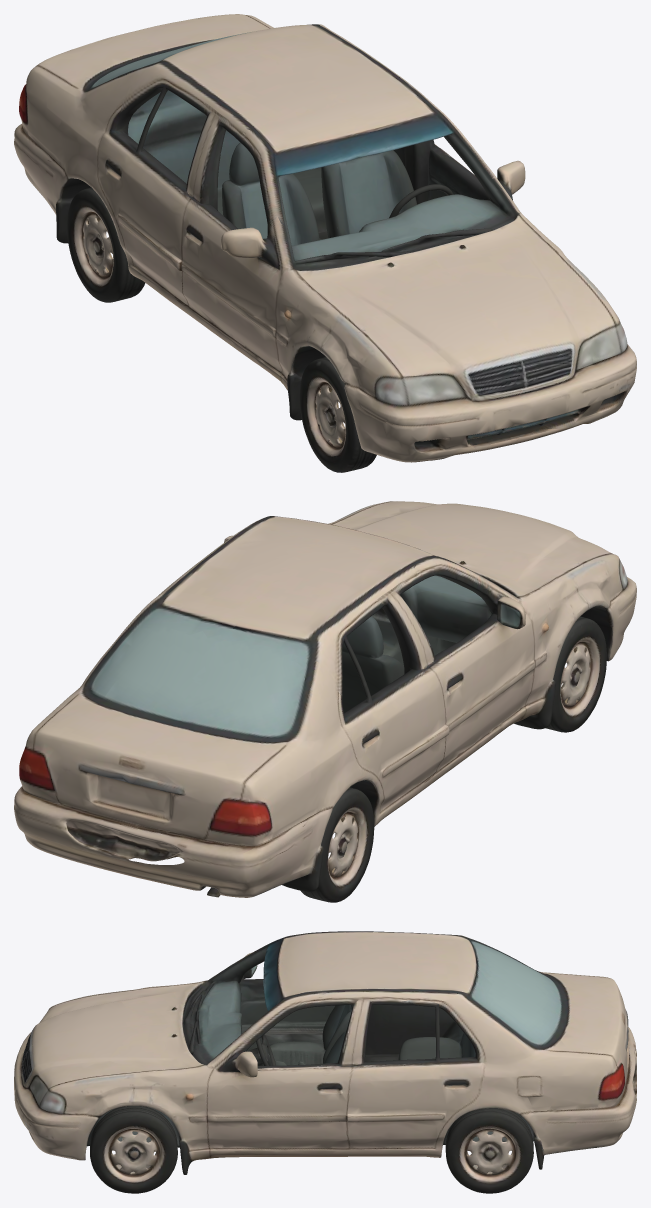
The model's file is 010_beige_dented.glb.
3 views of the same model, one above another, from view 1: azimuth 30°, elevation 25°; view 2: azimuth 150°, elevation 25°; view 3: azimuth 270°, elevation 25° (orthographic). The views are drawn at different scales.
Parts seen in each view (by area): view 1: geometry_0; view 2: geometry_0; view 3: geometry_0.
Part boxes in pixels (x1=…): geometry_0: x1=14, y1=14, x2=636, y2=472; geometry_0: x1=14, y1=501, x2=636, y2=902; geometry_0: x1=14, y1=931, x2=636, y2=1193.
Bounding box in the file's own units: 2.09 × 1.64 × 4.9.
1 material, 1 textured.
